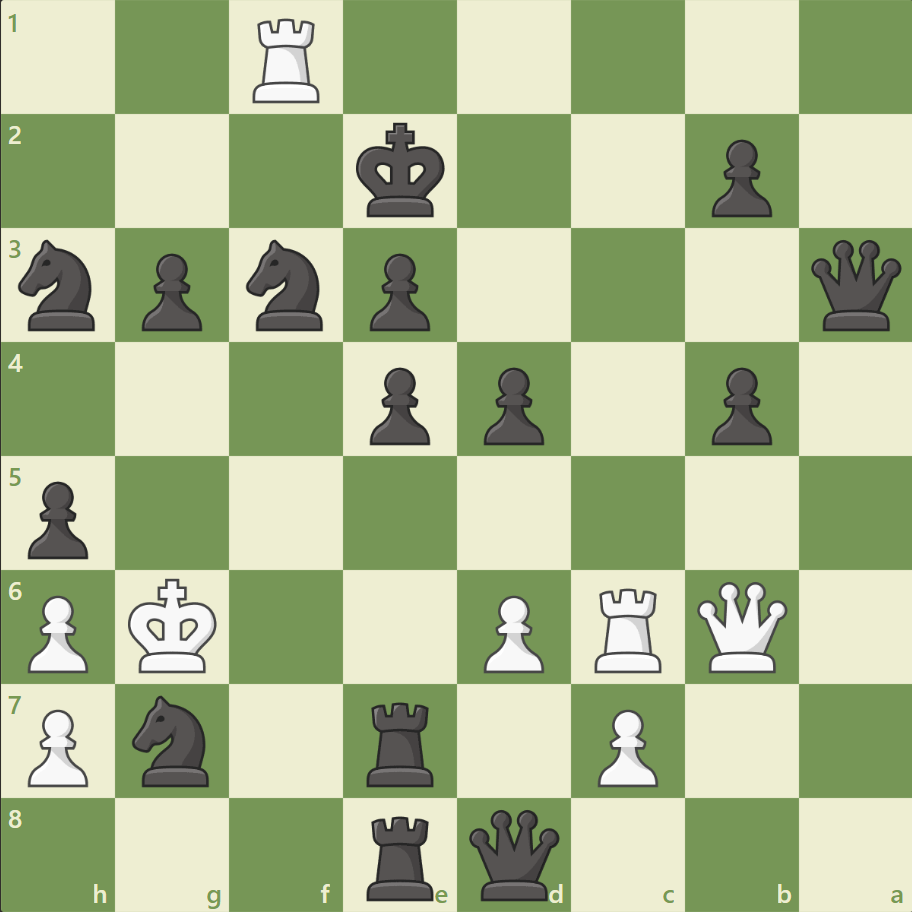K: (124, 571, 224, 679)
P: (20, 700, 95, 791), (474, 586, 549, 677), (20, 586, 95, 677), (588, 700, 662, 791)
Q: (691, 576, 790, 676)
R: (587, 579, 670, 676), (246, 12, 329, 109)
k: (351, 117, 451, 225)
n: (124, 688, 222, 791), (238, 234, 335, 337), (11, 234, 108, 337)
p: (20, 473, 95, 564), (701, 359, 776, 450), (474, 359, 549, 450), (133, 246, 208, 337), (701, 132, 776, 223), (361, 359, 435, 450), (361, 246, 435, 337)
q: (464, 804, 563, 903), (805, 236, 904, 335)
r: (360, 806, 442, 904), (360, 693, 442, 790)
